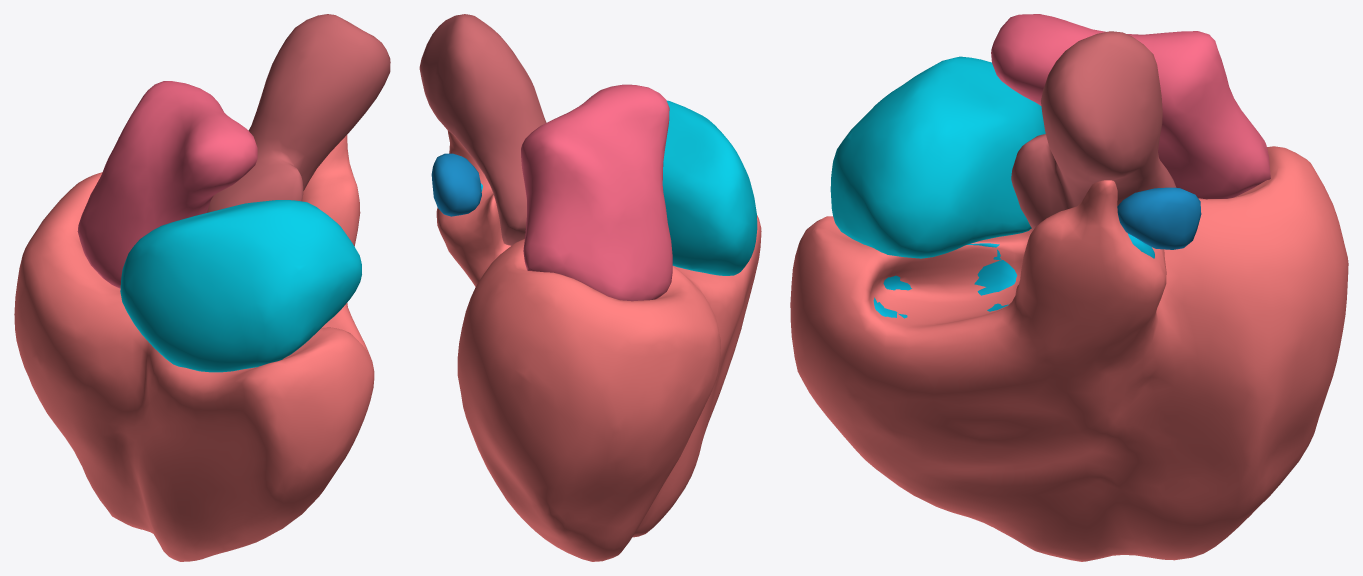
Rendered from frame_21.glb.
The picture shows the model from 3 angles, left to right: view 1: azimuth 30°, elevation 25°; view 2: azimuth 150°, elevation 25°; view 3: azimuth 270°, elevation 25°; orthographic projection. The views are drawn at different scales.
Parts seen in each view (by area): view 1: Renderer Node; view 2: Renderer Node; view 3: Renderer Node.
Part boxes in pixels (<box>): Renderer Node: <box>14,14,390,561</box>; Renderer Node: <box>419,14,761,561</box>; Renderer Node: <box>790,14,1348,561</box>.
Size of the model in its own units: 106 by 158 by 129.
